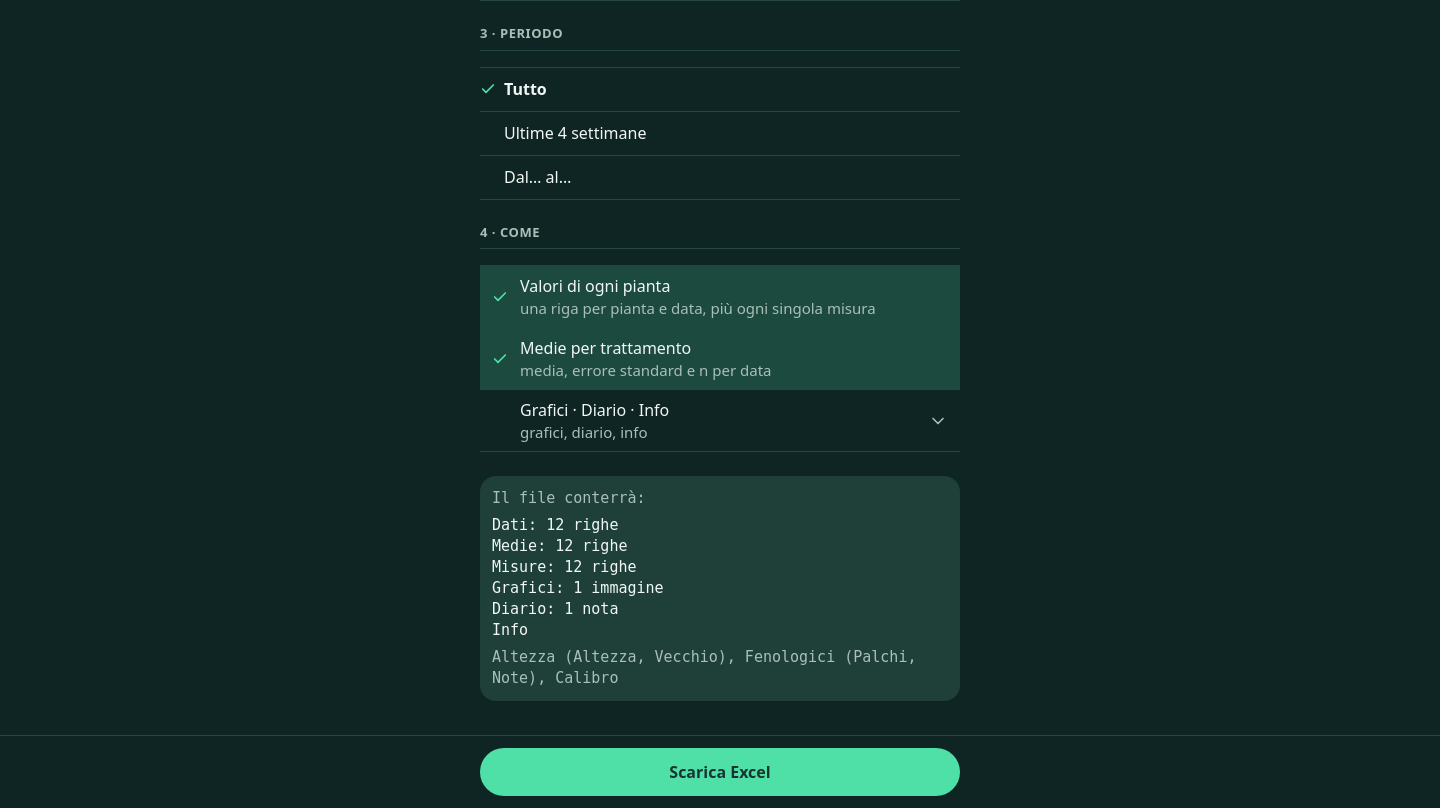
Scenario: Esporta: le quattro scelte › Come: valori e medie si accendono e spengono, Grafici · Diario · Info si apre in tre caselle
The image size is (1440, 808).
(page scrolled)
Expected: the message named "Riepilogo" shows "Il file conterrà:", [492,490,646,508]
Expected: the message named "Riepilogo" shows "Medie: 12 righe", [492,538,628,556]
Click the button "Medie per trattamento media, errore standard e n per data" at (720, 360), box [480,328,960,390]
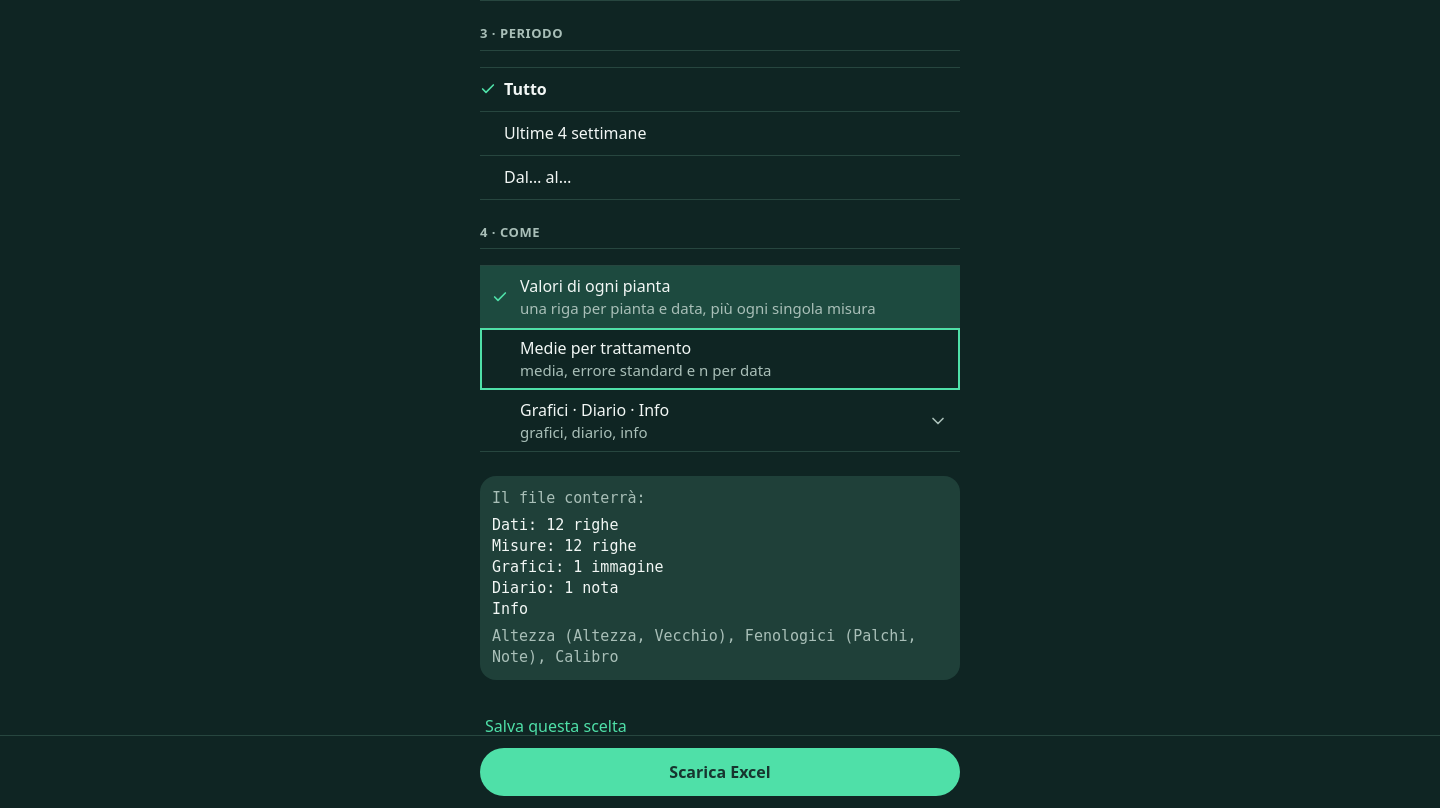
Result: the message named "Riepilogo" no longer shows "Medie:" at [480,476,960,680]
Click the button "Grafici · Diario · Info grafici, diario, info" at (595, 410), box [480,390,960,452]
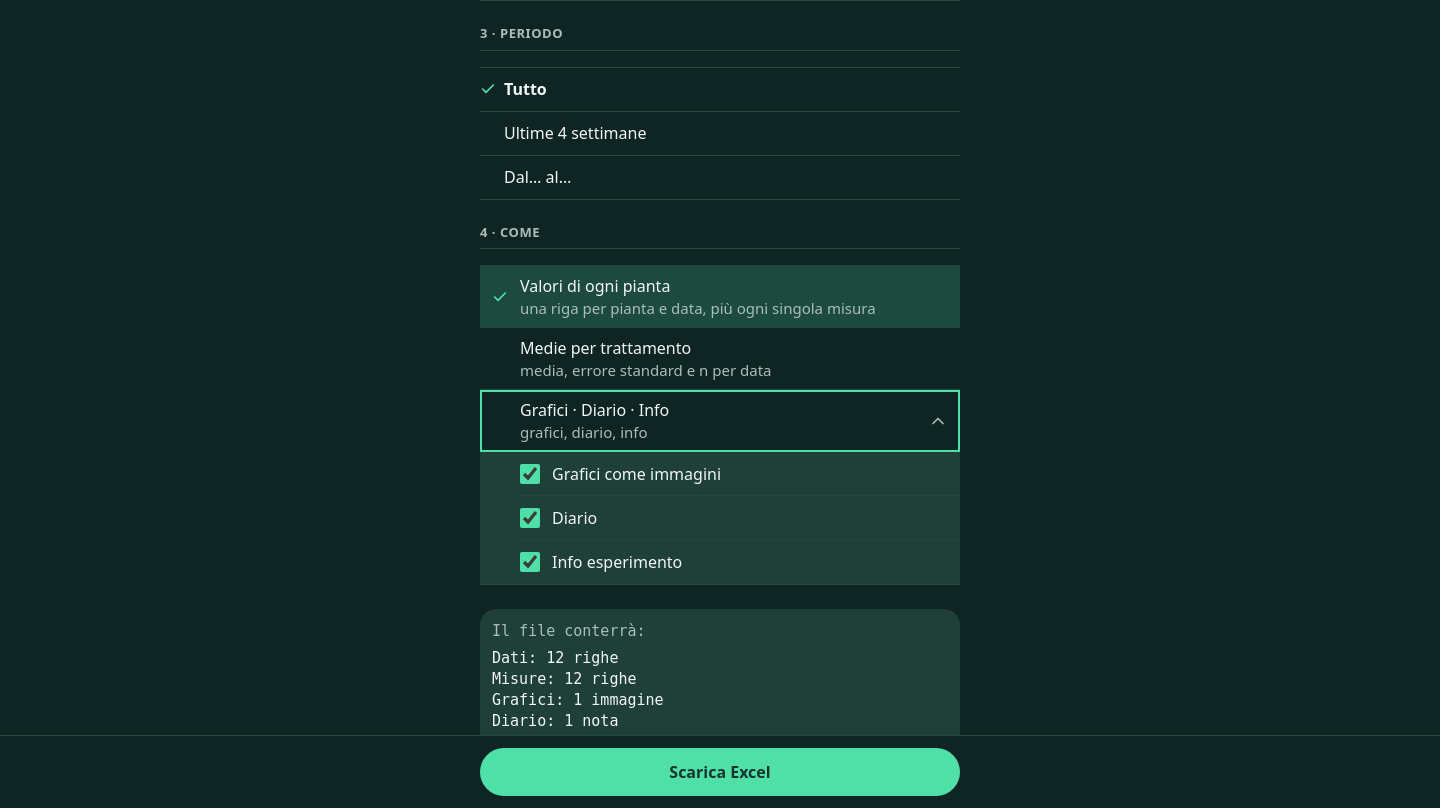
Expected: the message named "Riepilogo" shows "Grafici: 1 immagine", [492,692,664,710]
Result: the button "Grafici · Diario · Info grafici, diario, info" is expanded at [480,390,960,452]
Click the checkbox labelled "Grafici come immagini" at (530, 474), box [520,464,540,484]
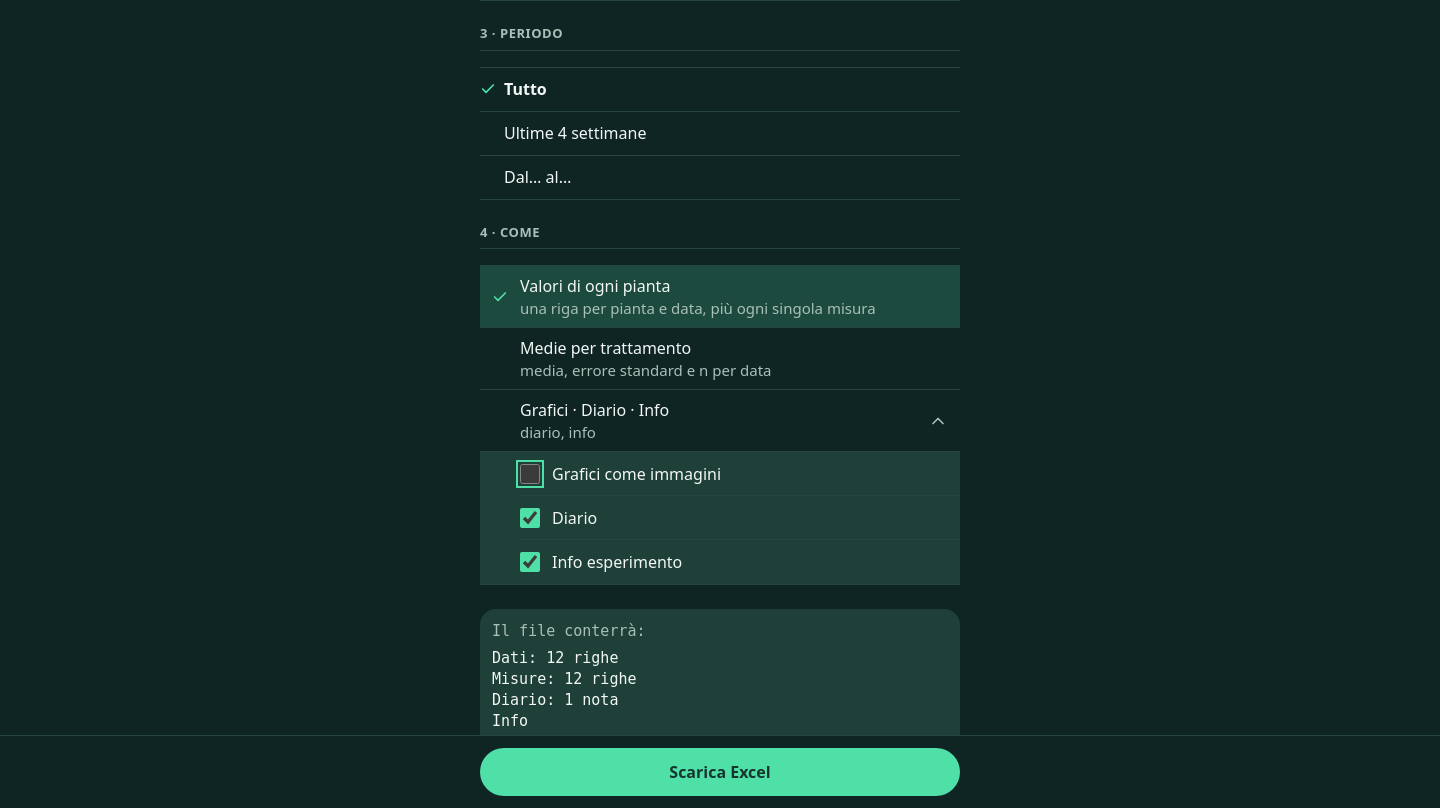
Result: the checkbox labelled "Diario" is checked at [520,508,540,528]
Result: the checkbox labelled "Info esperimento" is checked at [520,552,540,572]
Result: the message named "Riepilogo" no longer shows "Grafici:" at [480,610,960,792]
